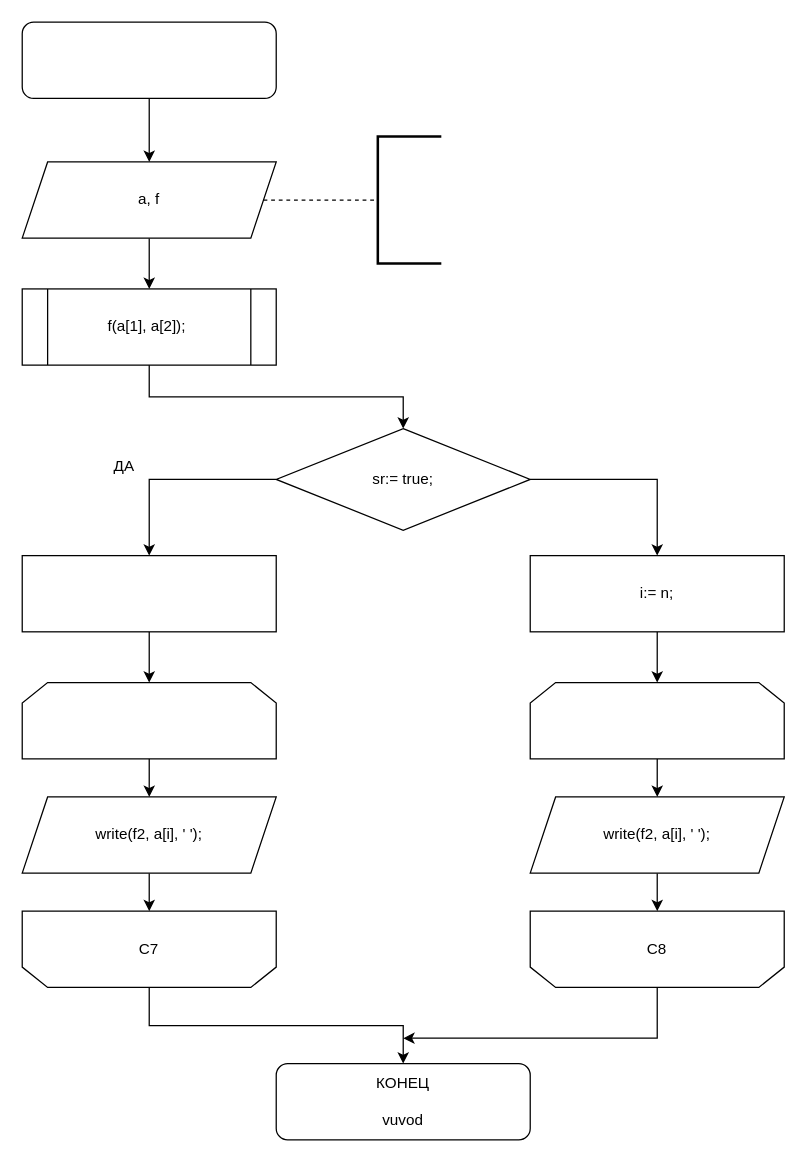
This 806x1162 diagram has some shape labels left out. The shapes that lost their labels are listed below. From the top down, each one's centre as x and y in pixels, then its label:
point 148,59: vuvod НАЧАЛО
point 409,199: a - МАССИВ ЧИСЕЛ ПО ЗНАЧЕНИЮ f - ФУНКЦИЯ ПО АДРЕСУ
point 148,593: i:= 1;
point 148,720: C7 i = n
point 656,720: C8 i = 1
